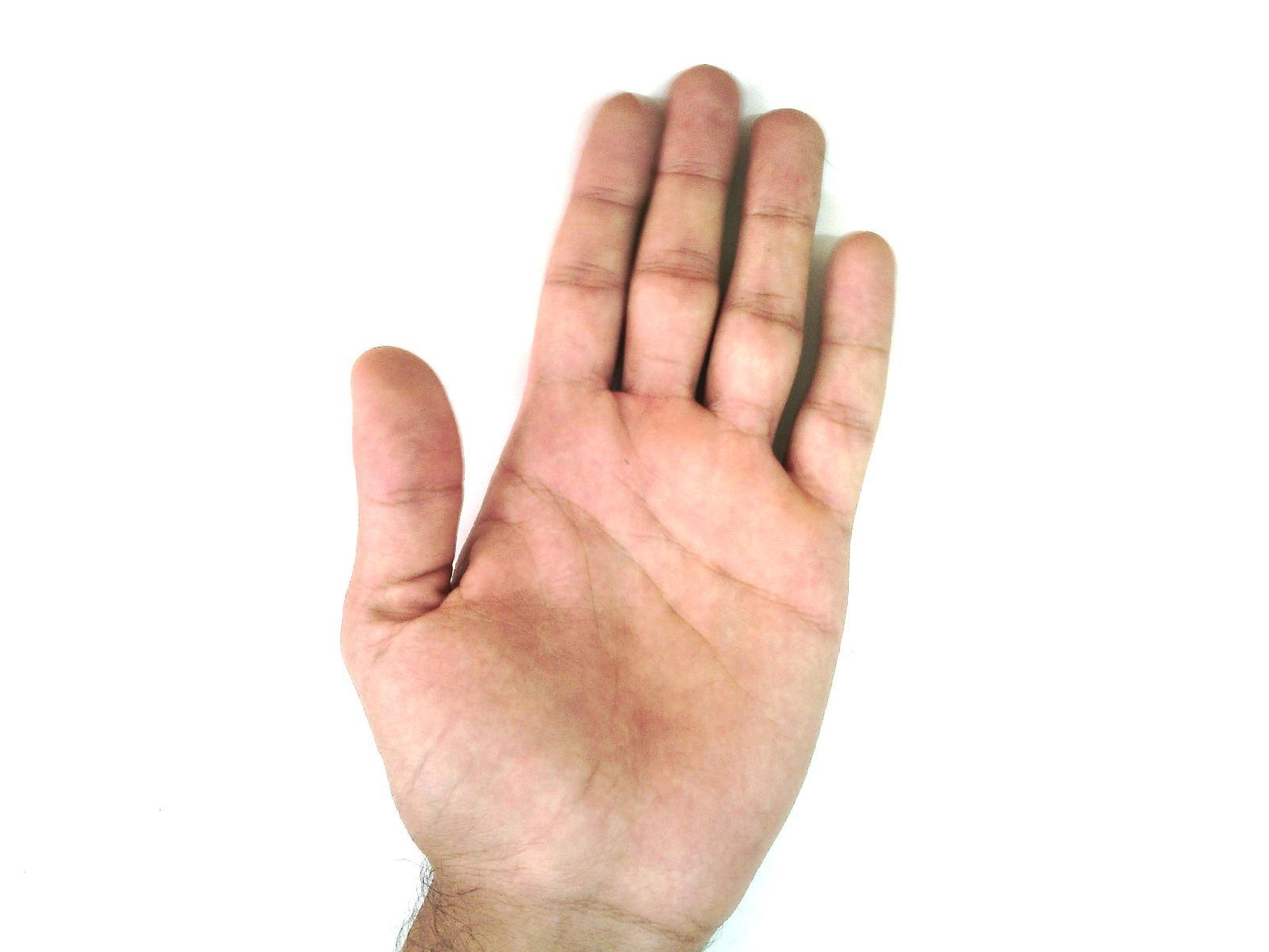open_palm: (337, 63, 901, 948)
